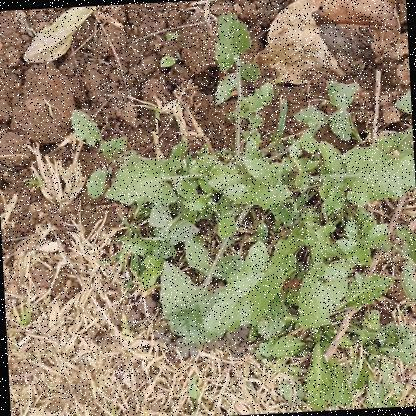Weeds: (65, 2, 415, 415)
